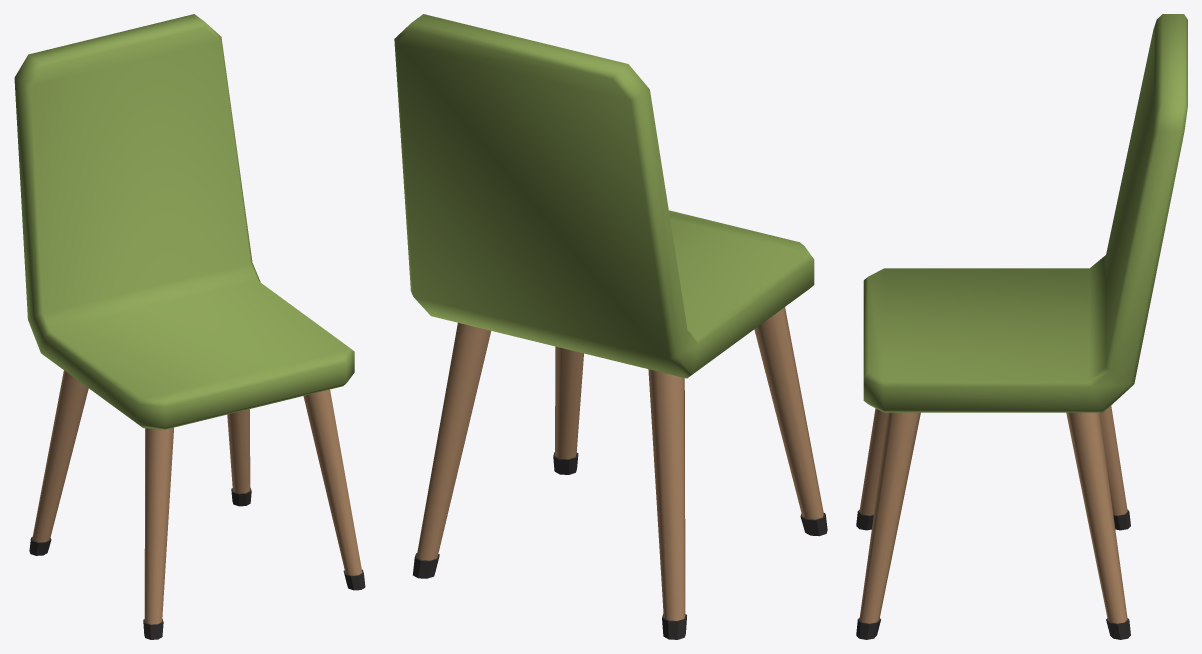
File: chair3.FBX
3 views of the same model, side by side, from view 1: azimuth 30°, elevation 25°; view 2: azimuth 150°, elevation 25°; view 3: azimuth 270°, elevation 25° (orthographic). The views are drawn at different scales.
Visible parts, largest first — view 1: chair3; view 2: chair3; view 3: chair3.
Part boxes in pixels (bbox=[...]): chair3: bbox=[14, 14, 365, 639]; chair3: bbox=[394, 14, 827, 639]; chair3: bbox=[856, 14, 1187, 639].
Size of the model in its own units: 47.87 by 98.43 by 56.69.
Materials: 1 (1 with a texture image).
